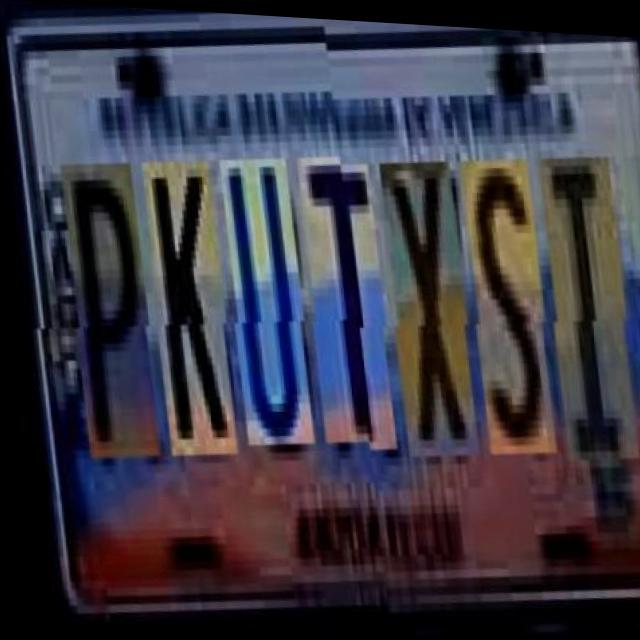i: (535, 158, 632, 467)
k: (138, 166, 232, 468)
p: (57, 168, 155, 470)
s: (456, 159, 549, 461)
t: (294, 162, 390, 456)
u: (215, 165, 310, 457)
x: (375, 160, 472, 462)
